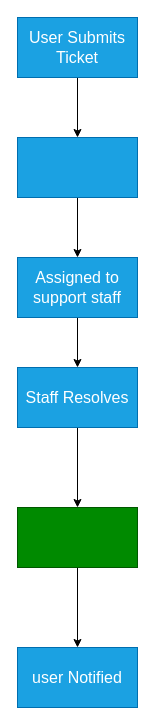
Image size: 155x725. Some labels were removed from this diagram. Each missing label, with the centre of its shape:
"Status updated" goes at (x=77, y=537).
"Ticket Stored in Database" goes at (x=77, y=167).
